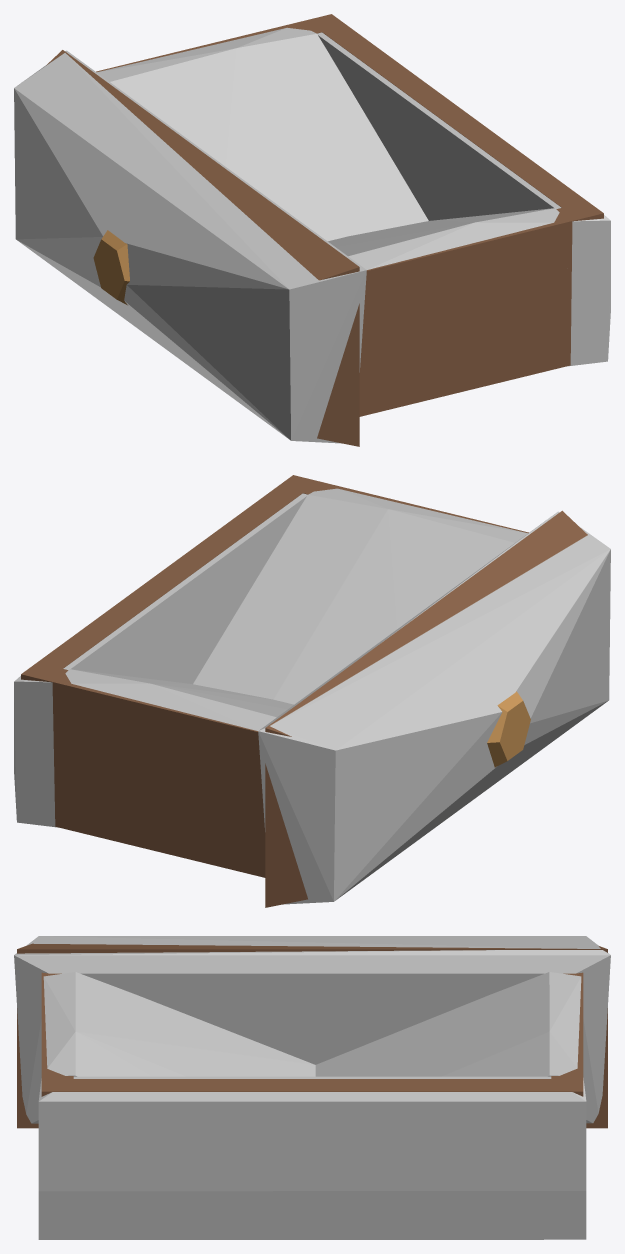
The model's file is SM_Prop_Cabinet_01_Drawer_r_02.fbx.
3 views of the same model, one above another, from view 1: azimuth 30°, elevation 25°; view 2: azimuth 150°, elevation 25°; view 3: azimuth 270°, elevation 25° (orthographic).
Parts seen in each view (by area): view 1: SM_Prop_Cabinet_01_Drawer_r_02_ConvexHulls, SM_Prop_Cabinet_01_Drawer_r_02; view 2: SM_Prop_Cabinet_01_Drawer_r_02_ConvexHulls, SM_Prop_Cabinet_01_Drawer_r_02; view 3: SM_Prop_Cabinet_01_Drawer_r_02_ConvexHulls, SM_Prop_Cabinet_01_Drawer_r_02.
Part boxes in pixels (<box>): SM_Prop_Cabinet_01_Drawer_r_02_ConvexHulls: <box>14,27,610,443</box>; SM_Prop_Cabinet_01_Drawer_r_02: <box>46,14,603,446</box>; SM_Prop_Cabinet_01_Drawer_r_02_ConvexHulls: <box>14,488,610,904</box>; SM_Prop_Cabinet_01_Drawer_r_02: <box>21,475,587,907</box>; SM_Prop_Cabinet_01_Drawer_r_02_ConvexHulls: <box>14,936,610,1239</box>; SM_Prop_Cabinet_01_Drawer_r_02: <box>17,943,607,1128</box>.
Bounding box in the file's own units: 24.64 × 35.18 × 11.64.
2 materials, 1 textured.
